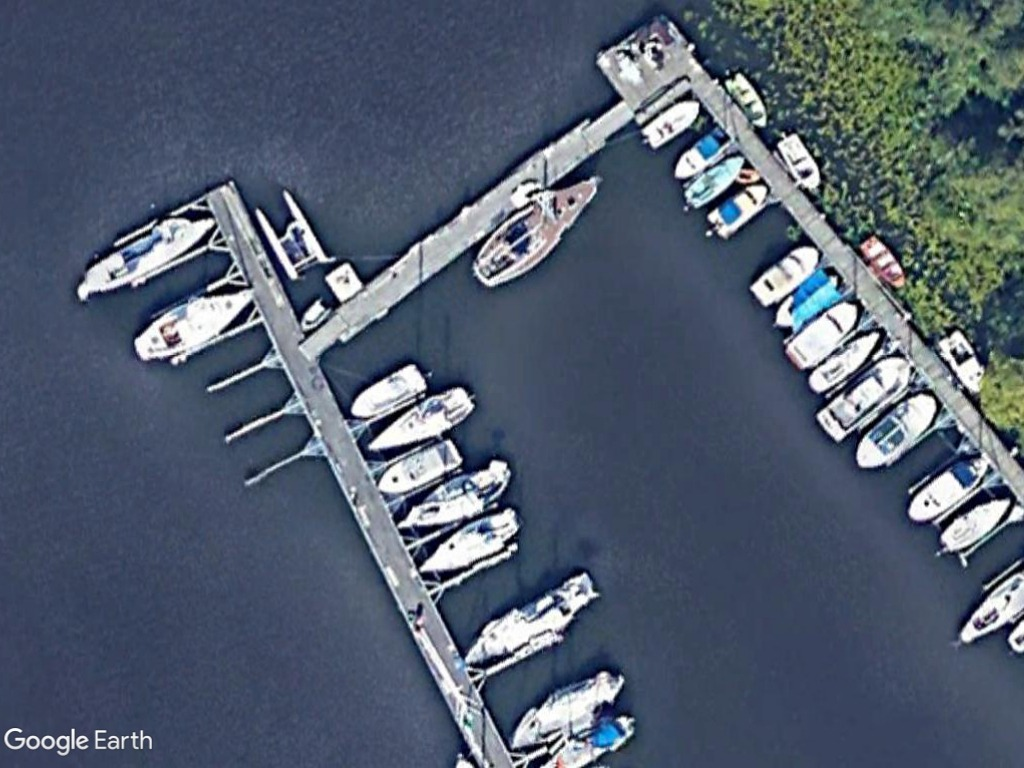boat: (471, 173, 605, 289), (70, 207, 217, 303), (500, 663, 633, 759), (131, 282, 259, 369), (391, 451, 517, 535), (362, 376, 484, 457), (814, 349, 913, 448), (413, 500, 523, 586), (902, 445, 999, 531), (847, 386, 943, 472), (778, 293, 864, 372), (347, 352, 435, 425), (804, 322, 884, 401), (744, 240, 826, 312), (375, 434, 464, 497), (933, 485, 1013, 553), (701, 177, 771, 242), (678, 151, 750, 212), (638, 96, 707, 151), (668, 127, 734, 180)
